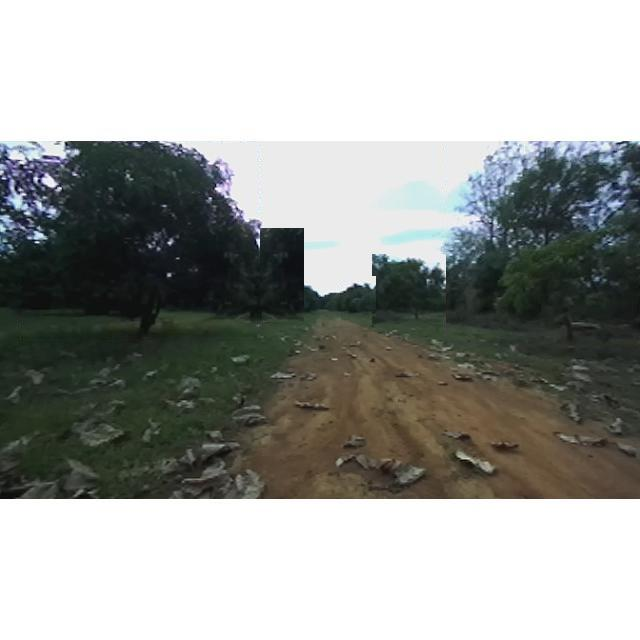direk: (20, 142, 260, 340), (446, 144, 640, 344), (208, 228, 304, 322), (372, 254, 456, 324), (342, 276, 376, 316)
